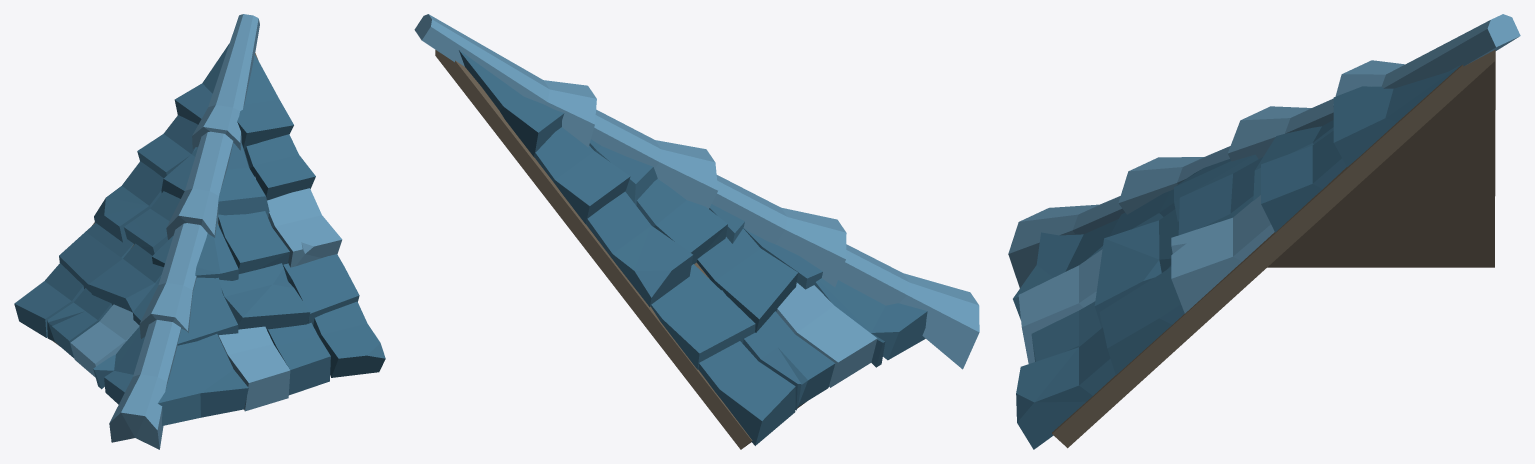
The model's file is ROOF_corner_out_1.fbx.
3 renders of one model, left to right at view 1: azimuth 30°, elevation 25°; view 2: azimuth 150°, elevation 25°; view 3: azimuth 270°, elevation 25°, orthographic. The views are drawn at different scales.
Parts seen in each view (by area): view 1: ROOF_corner_out_1; view 2: ROOF_corner_out_1; view 3: ROOF_corner_out_1.
Part boxes in pixels (x1,y1,x2,y2): ROOF_corner_out_1: [14, 14, 385, 449]; ROOF_corner_out_1: [414, 14, 979, 449]; ROOF_corner_out_1: [1008, 14, 1520, 449].
Size of the model in its own units: 127 by 123 by 120.
